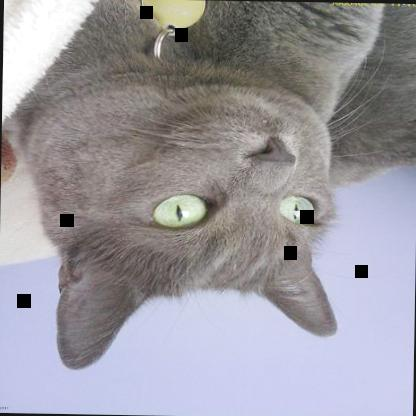cat: (12, 0, 415, 376)
